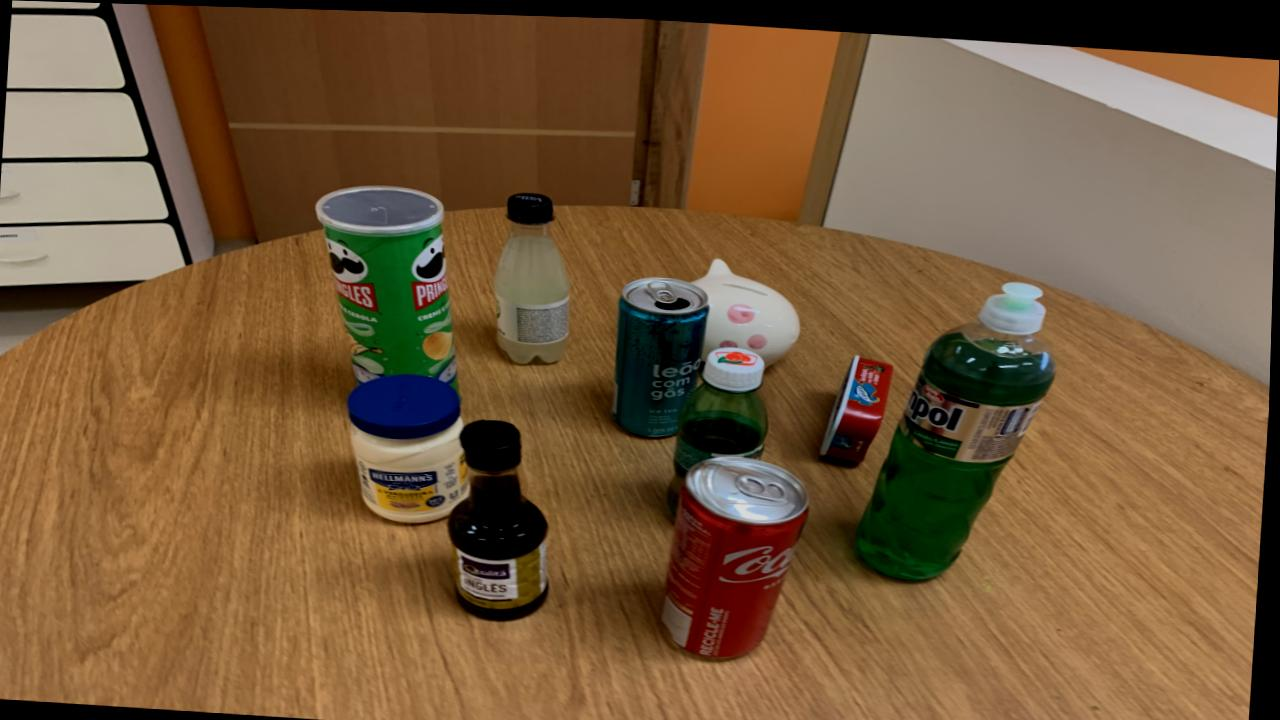Coke-Drinks: (665, 450, 813, 654)
Detergent-Cleanup_Items: (860, 277, 1058, 574)
English_Sauce-Pantry_Items: (450, 417, 552, 618)
Guarana-Drinks: (669, 343, 772, 511)
Mayonnaise-Pantry_Items: (349, 371, 473, 521)
Pig_Safe-Miscellaneous: (695, 254, 803, 360)
Pringles-Snacks: (316, 183, 459, 384)
Soda-Drinks: (494, 190, 572, 361)
Tea-Drinks: (614, 273, 711, 433)
Tuna_Can-Pantry_Items: (823, 351, 895, 458)
